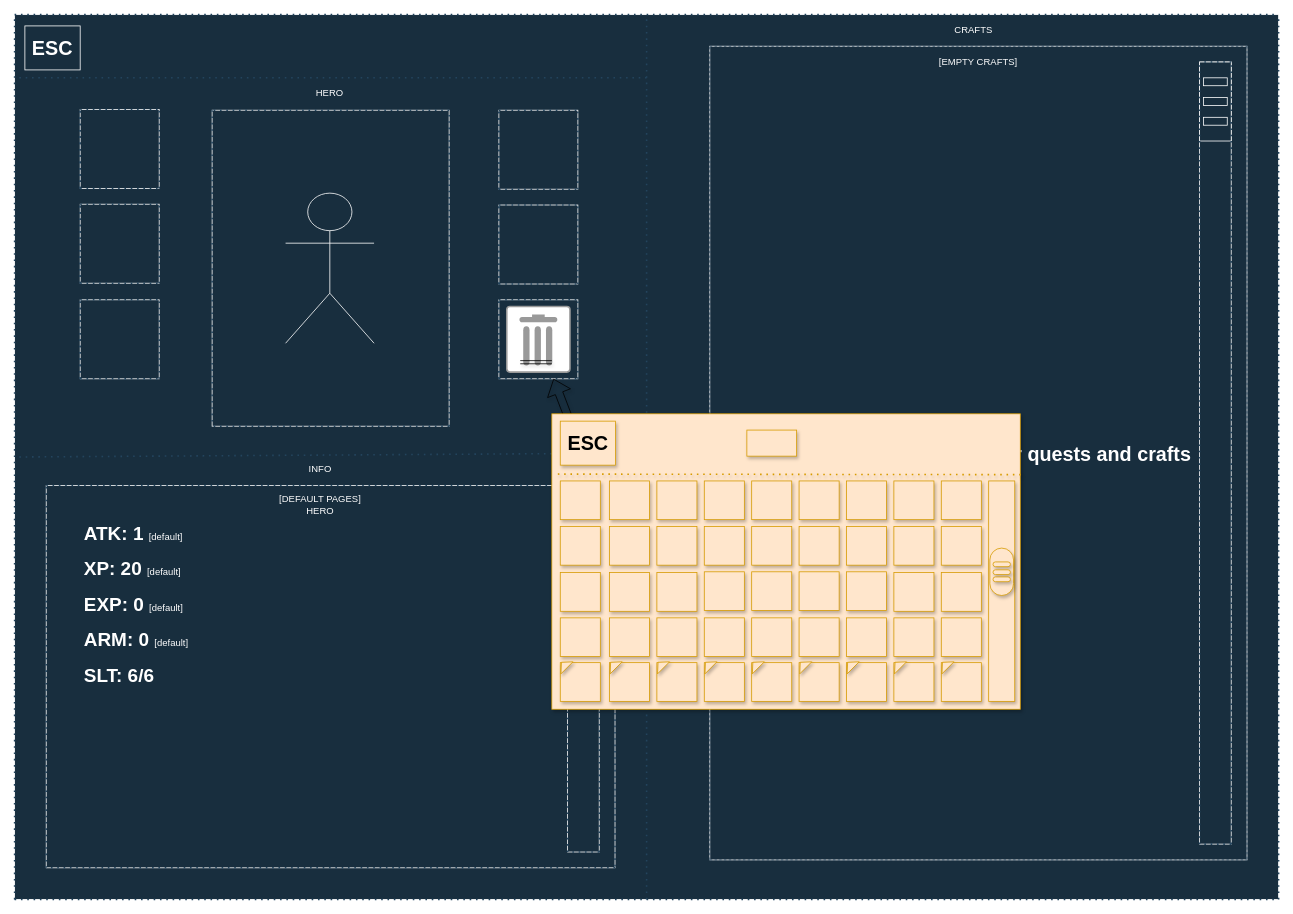
Some shapes in this 1293 by 914 pixel diagram are drawn without their labels. Here are the shapes that lost their labels. From the top down, the centre of each, then its label:
At (x=329, y=267): "Persone".
At (x=772, y=444): "Bag".
